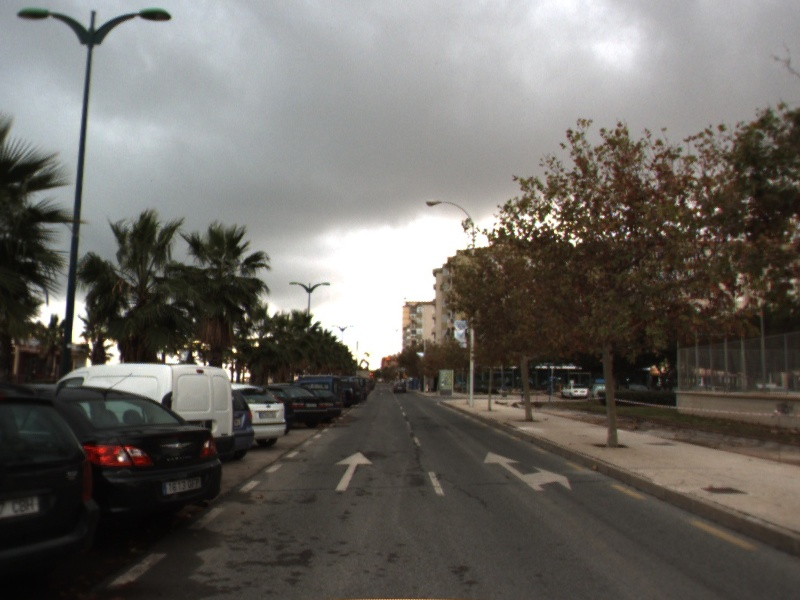STRAIGHT: (333, 450, 375, 492)
STRAIGHT_RIGHT: (482, 450, 573, 492)
